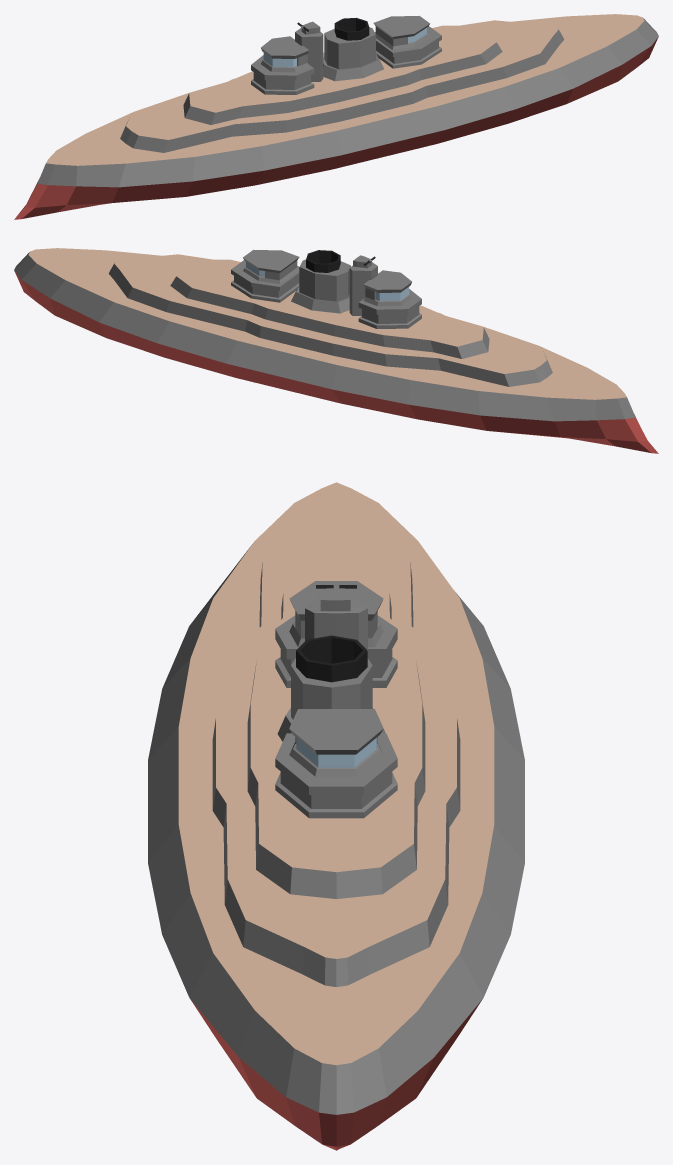
The model's file is Linkor.fbx.
The picture shows the model from 3 angles, top to bottom: view 1: azimuth 30°, elevation 25°; view 2: azimuth 150°, elevation 25°; view 3: azimuth 270°, elevation 25°; orthographic projection. The views are drawn at different scales.
Parts seen in each view (by area): view 1: Plane.001; view 2: Plane.001; view 3: Plane.001.
Boxes of the visible parts, bbox=[...] form: Plane.001: bbox=[14, 14, 658, 219]; Plane.001: bbox=[14, 248, 658, 453]; Plane.001: bbox=[148, 482, 524, 1150].
Bounding box in the file's own units: 4704 × 866 × 1195.
